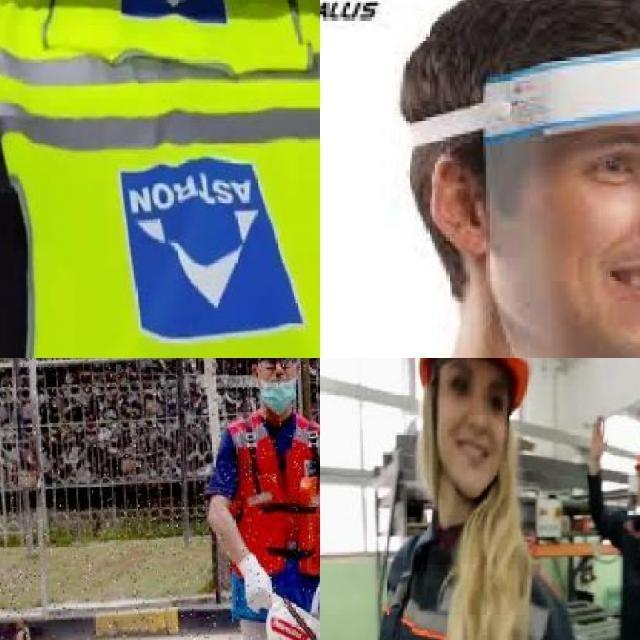apron: (238, 552, 275, 614), (307, 567, 320, 629)
